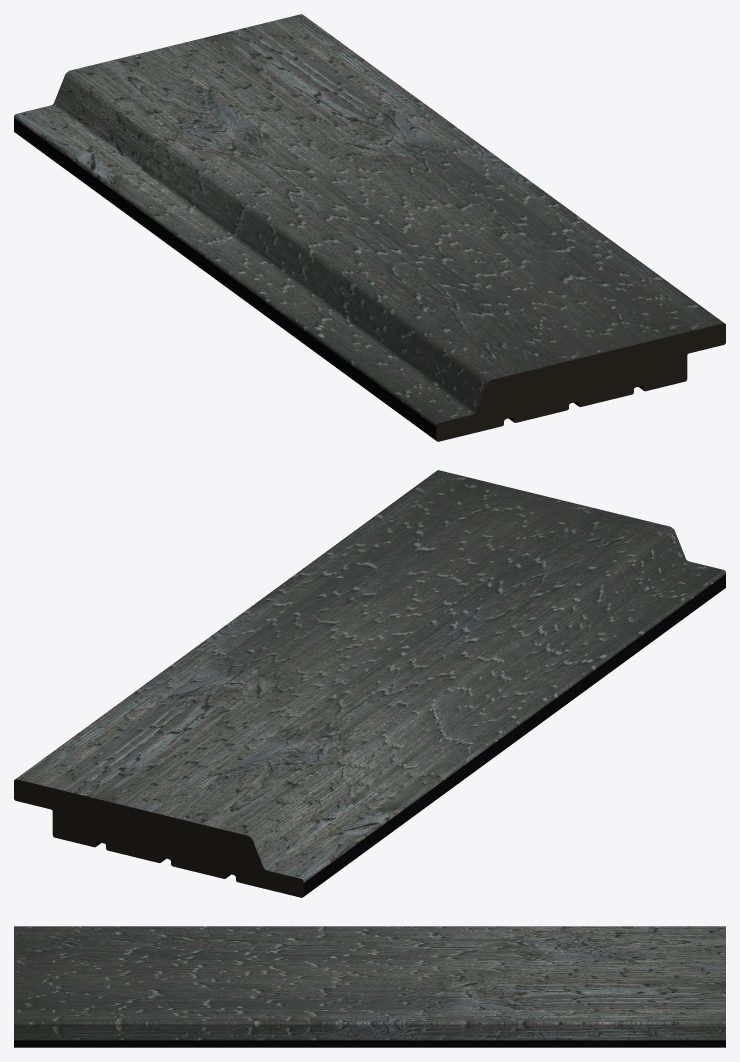
Rendered from thermo-facade-half-tongue-carbon-light.glb.
The picture shows the model from 3 angles, top to bottom: view 1: azimuth 30°, elevation 25°; view 2: azimuth 150°, elevation 25°; view 3: azimuth 270°, elevation 25°; orthographic projection. The views are drawn at different scales.
Visible parts, largest first — view 1: Pusė_Špunto; view 2: Pusė_Špunto; view 3: Pusė_Špunto.
Part boxes in pixels (bbox=[...]): Pusė_Špunto: bbox=[14, 14, 725, 441]; Pusė_Špunto: bbox=[14, 470, 725, 897]; Pusė_Špunto: bbox=[14, 926, 725, 1047].
Bounding box in the file's own units: 0.0723 × 0.0117 × 0.1826.
Materials: 3 (1 with a texture image).
